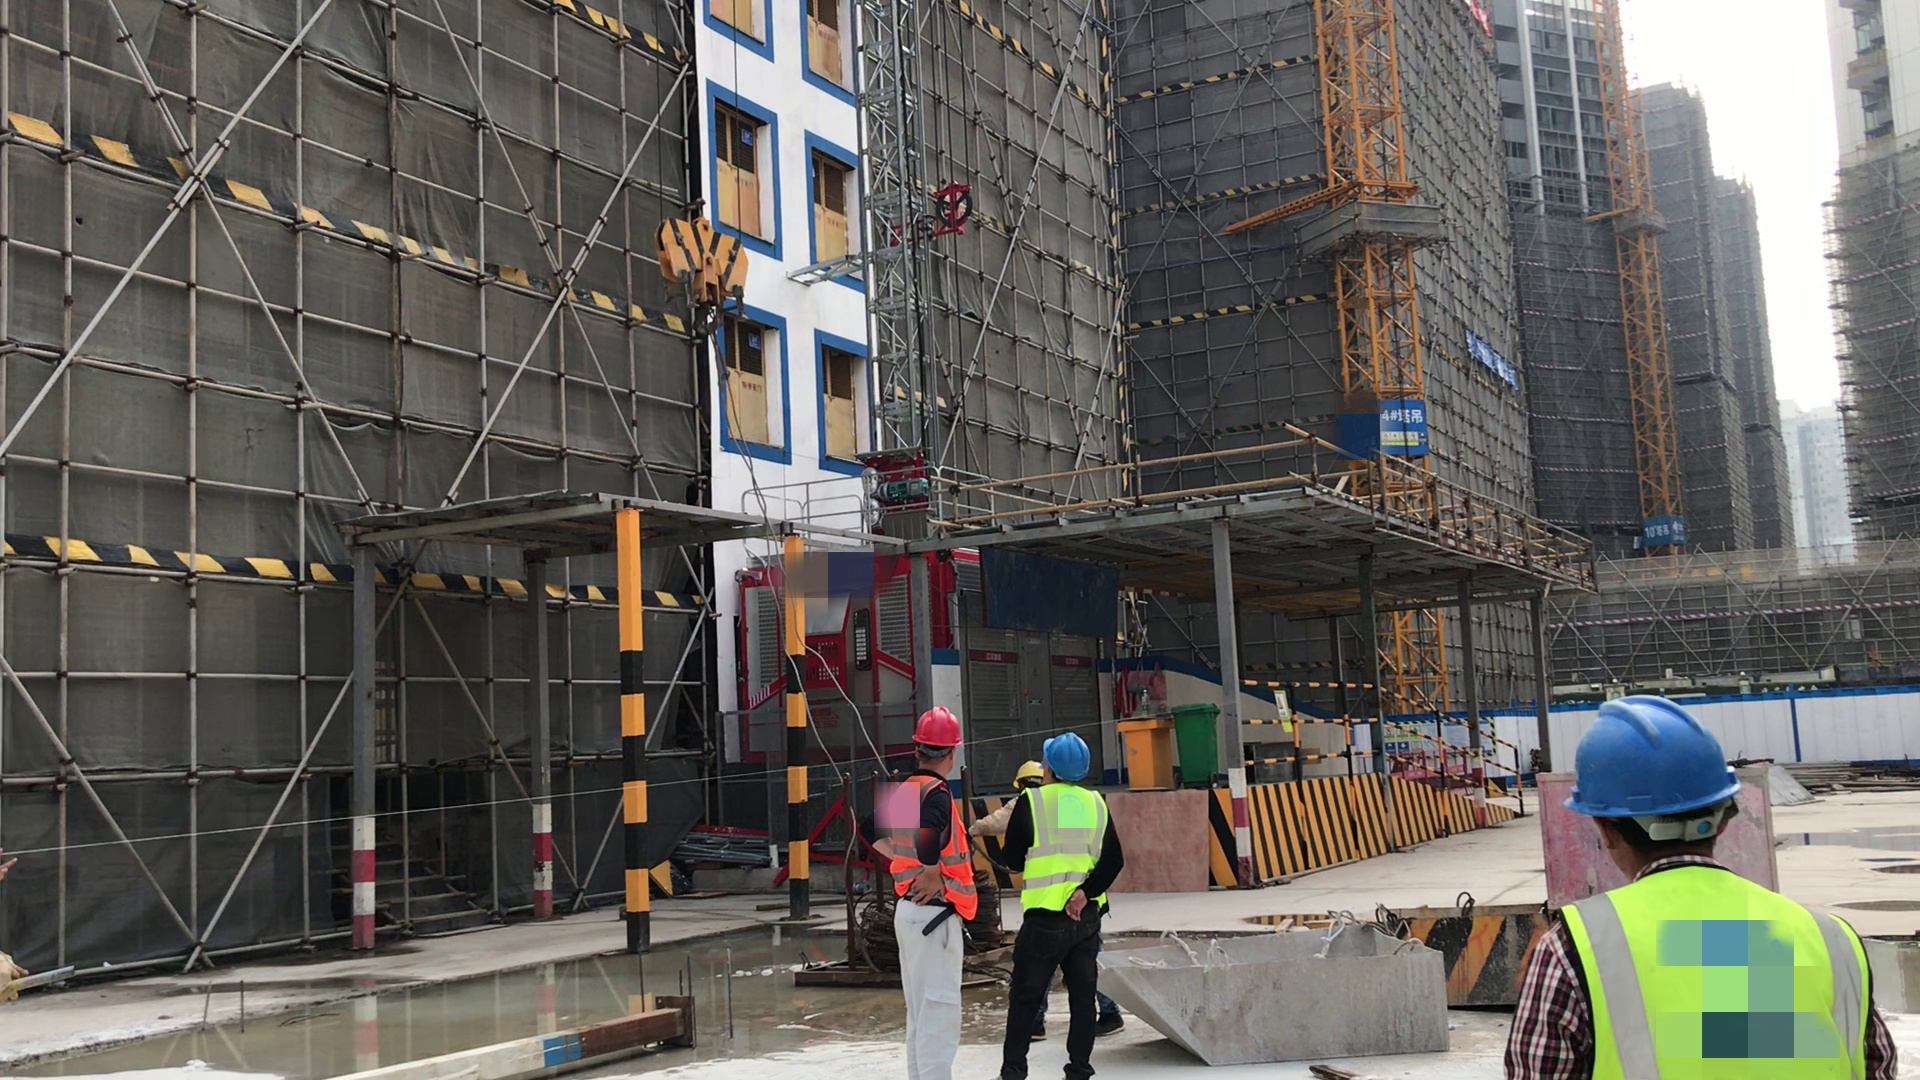helmet: (1563, 698, 1737, 830), (910, 704, 967, 750), (1042, 736, 1092, 777), (1013, 755, 1041, 784)
hook: (655, 210, 757, 333)
hopper: (1094, 923, 1461, 1066)
person: (1485, 695, 1904, 1080), (1011, 734, 1127, 1080), (878, 704, 980, 1080), (967, 764, 1041, 833)
slogan: (1467, 331, 1519, 392), (1383, 426, 1430, 455)
vest: (1540, 853, 1874, 1080), (892, 766, 978, 921), (1021, 780, 1111, 916)
